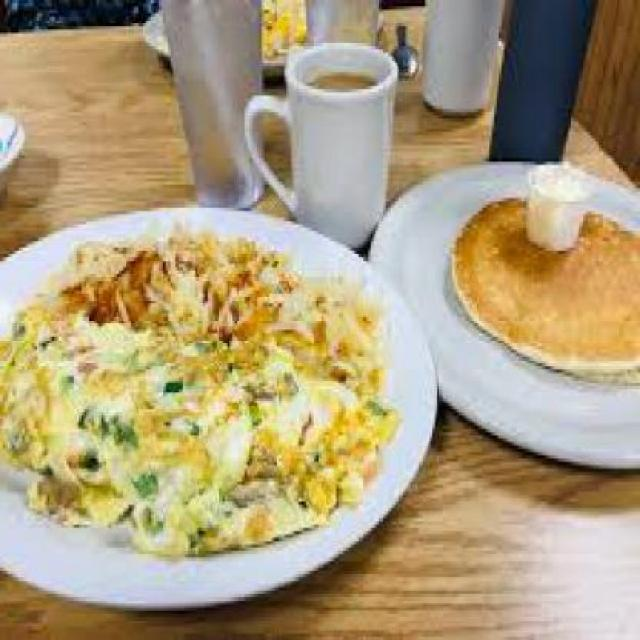omelette: (2, 223, 398, 554)
